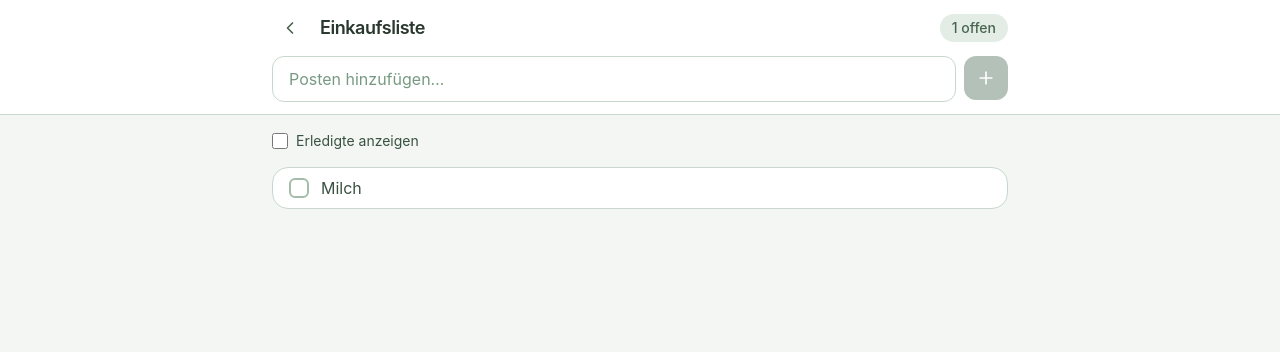
Einkaufsliste-Detailseite › reveals done items and a "Mehr laden" button when toggled on
What coordinates should you click on to do the following:
click the checkbox labelled "Erledigte anzeigen"
I would click on:
 (280, 141)
Its box is left=272, top=133, right=288, bottom=149.
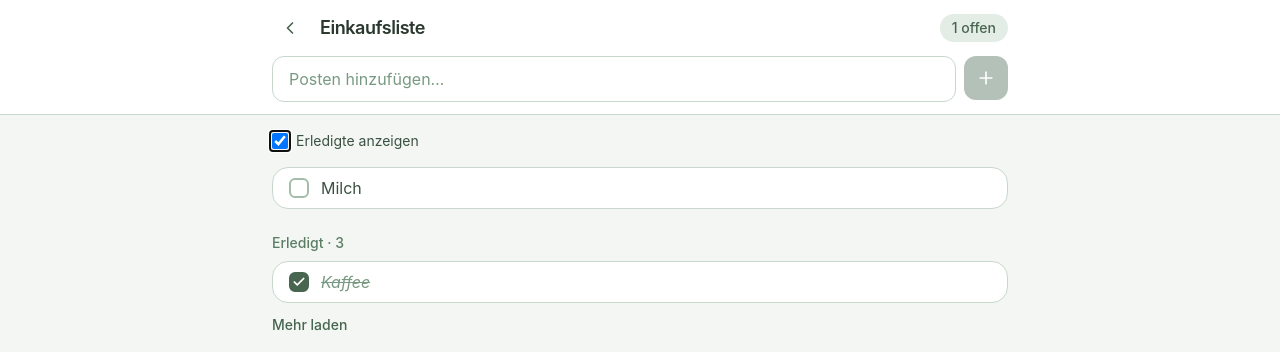
Now the heading "Erledigt · 3" is shown, box left=272, top=234, right=344, bottom=251
Now the button named "Kaffee wieder öffnen" is shown, box left=289, top=272, right=309, bottom=292
Now the button "Mehr laden" is shown, box left=272, top=315, right=347, bottom=335
